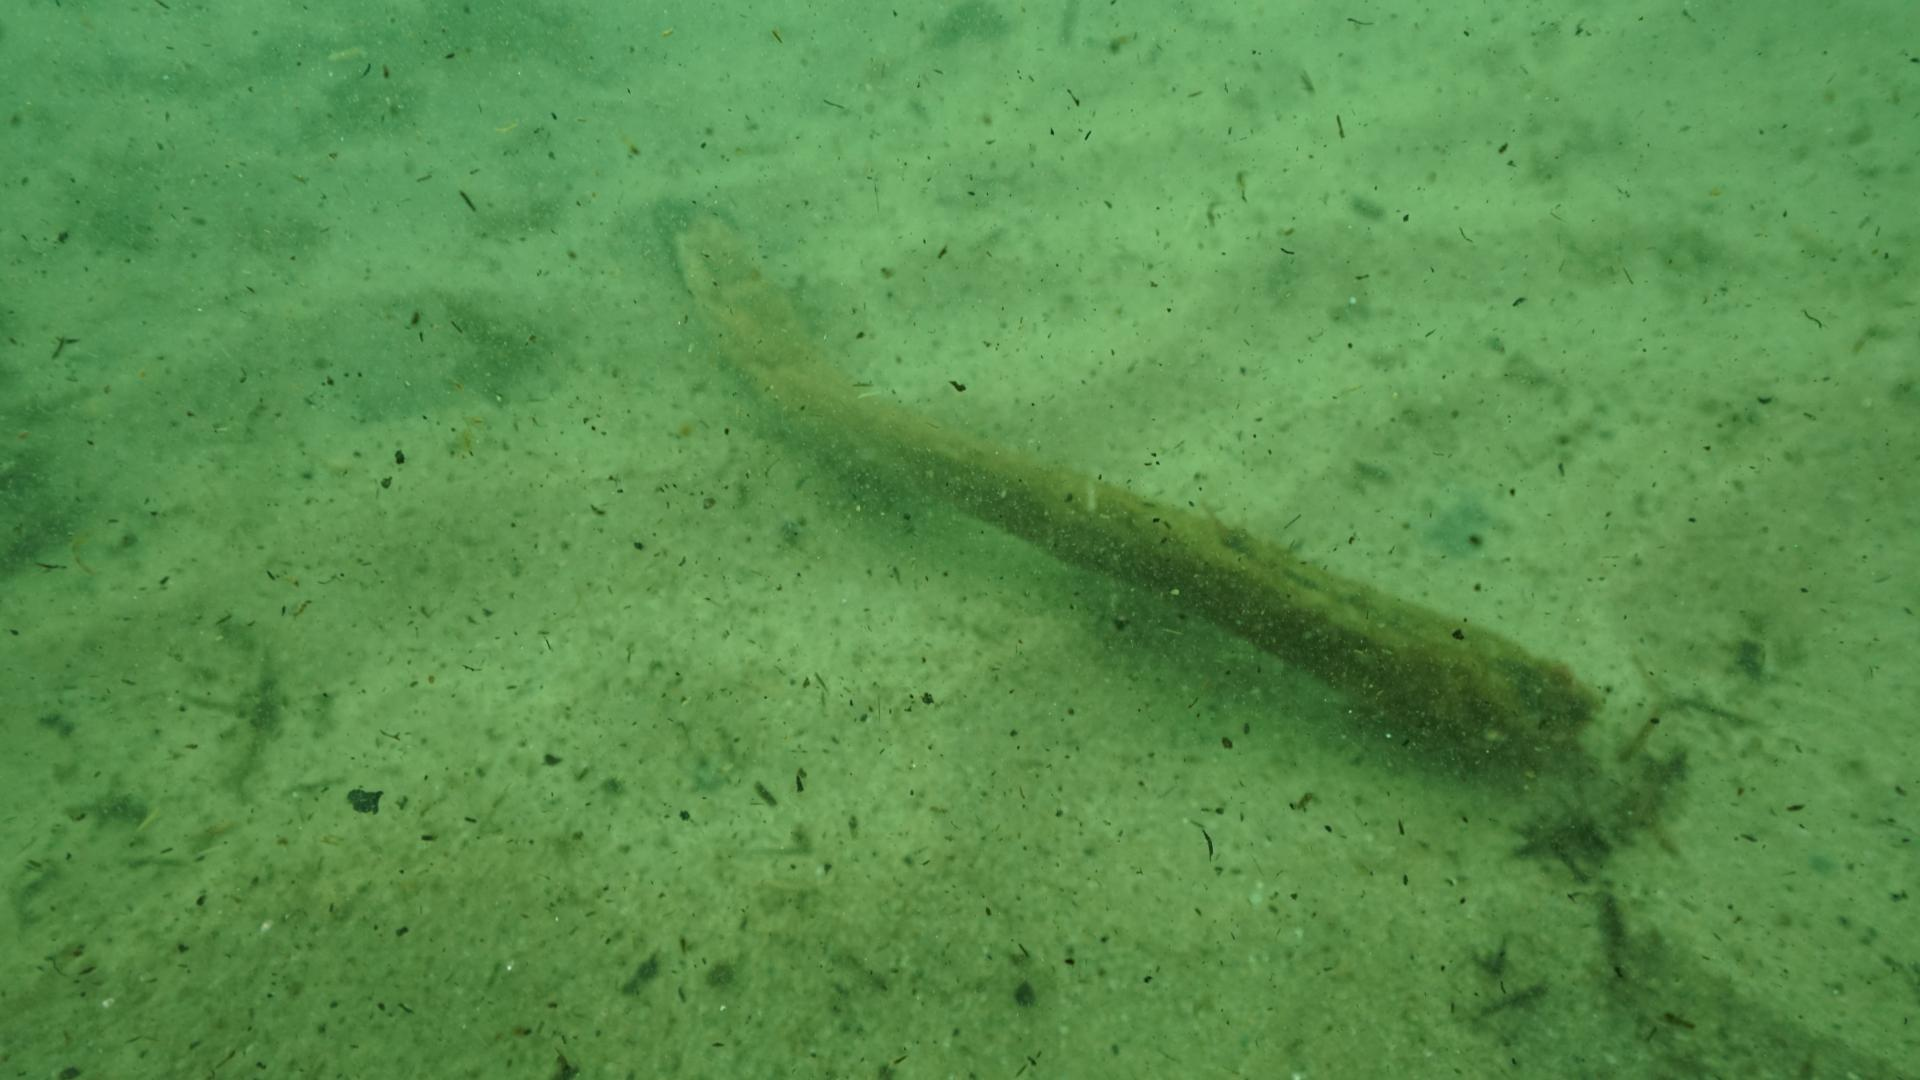wood: (655, 200, 1602, 773)
